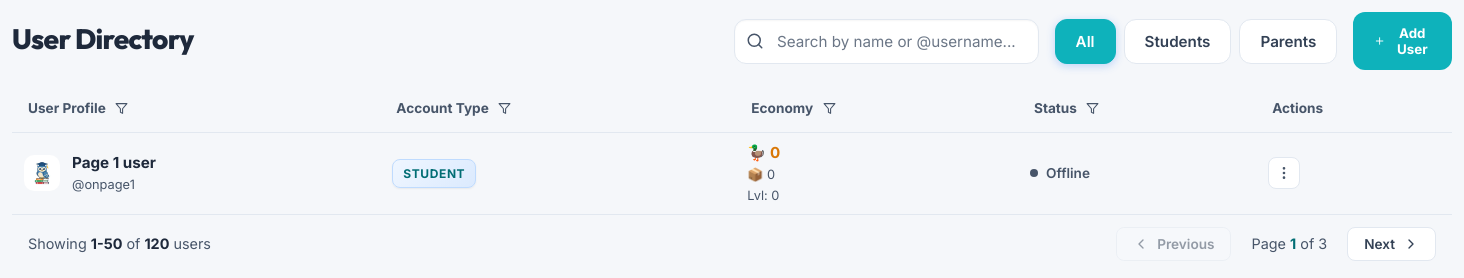
it: Users page pagination › requests each page once when the user steps through with Next and Previous
Expected: the text "@onpage1" is shown, [72,177,135,192]
Click the button "Next".
click(1392, 244)  # box [1347,227,1436,261]
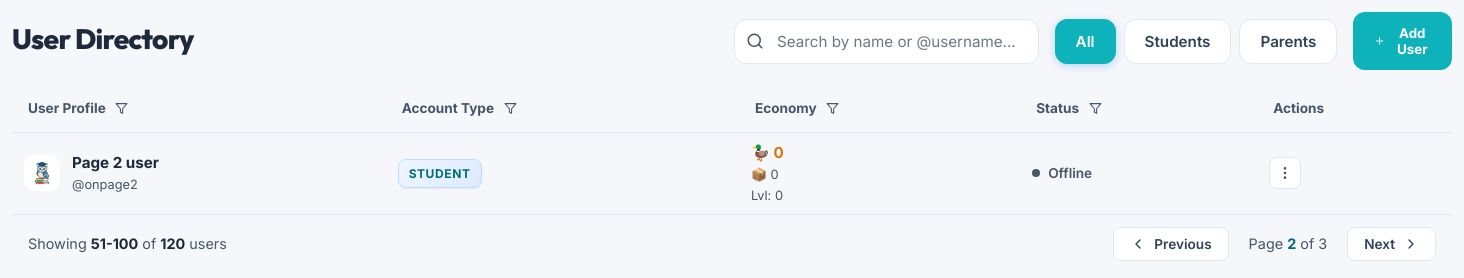
Now the text "@onpage2" is shown, box [72,177,138,192]
Now the element showing "Page 2 of 3" is shown, box [1249,236,1327,252]
Click the button "Next".
click(1392, 244)  # box [1347,227,1436,261]
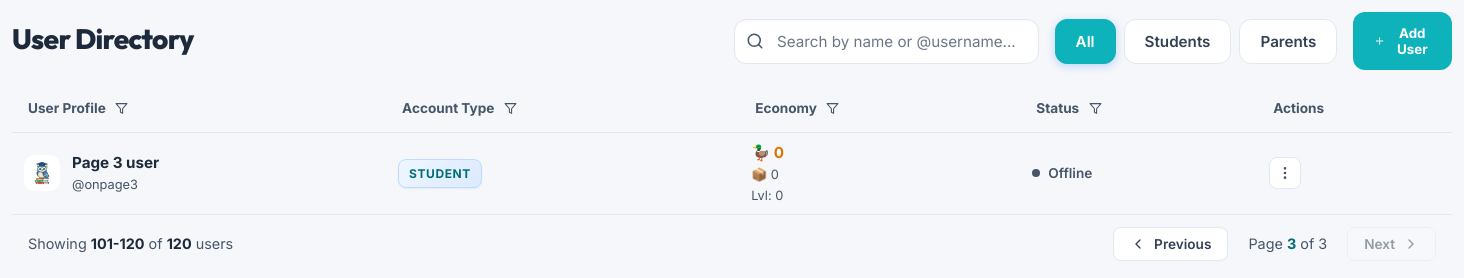
Now the button "Previous" is enabled
Now the text "@onpage3" is shown, box [72,177,138,192]
Now the button "Next" is disabled, box [1347,227,1436,261]
Click the button "Previous".
click(1171, 244)  # box [1113,227,1228,261]
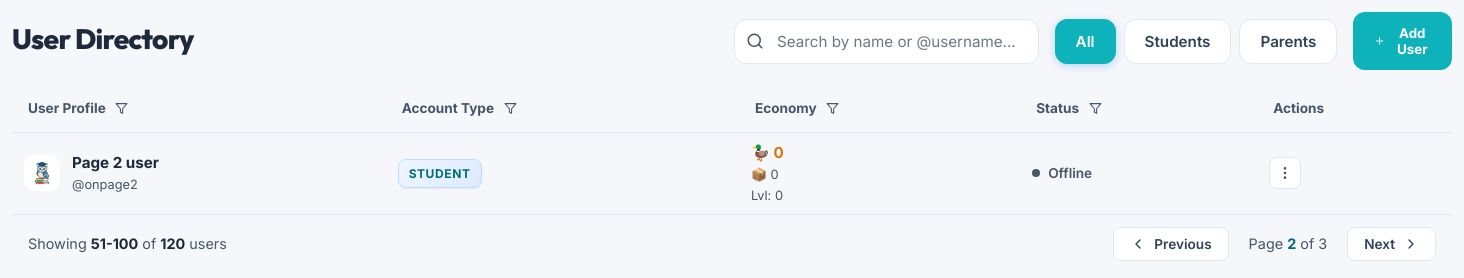
Now the text "@onpage2" is shown, box [72,177,138,192]
Now the element showing "Page 2 of 3" is shown, box [1249,236,1327,252]
